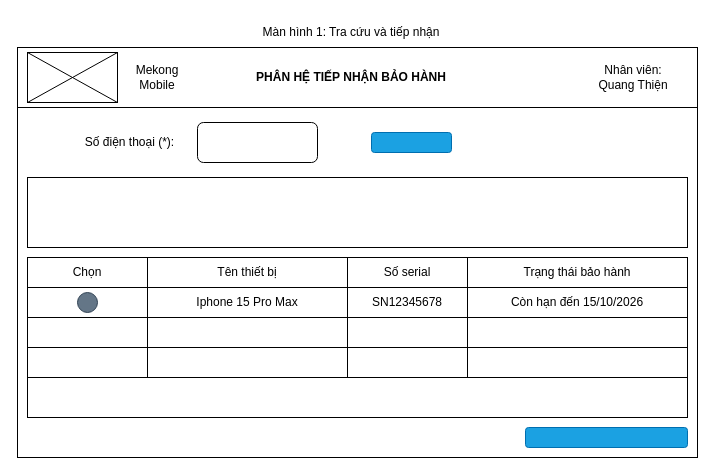
Some shapes in this 715 by 475 pixel diagram are drawn without their labels. Each missing label, with the box of its shape:
Chọn và tạo phiếu bảo hành: (524, 426, 688, 448)
Họ và tên: Nguyễn Văn An email: an.nv@gmail.com Địa chỉ: 123 ABC, p. AC, tp.HCM: (26, 176, 688, 248)
Tra cứu: (370, 132, 452, 152)
